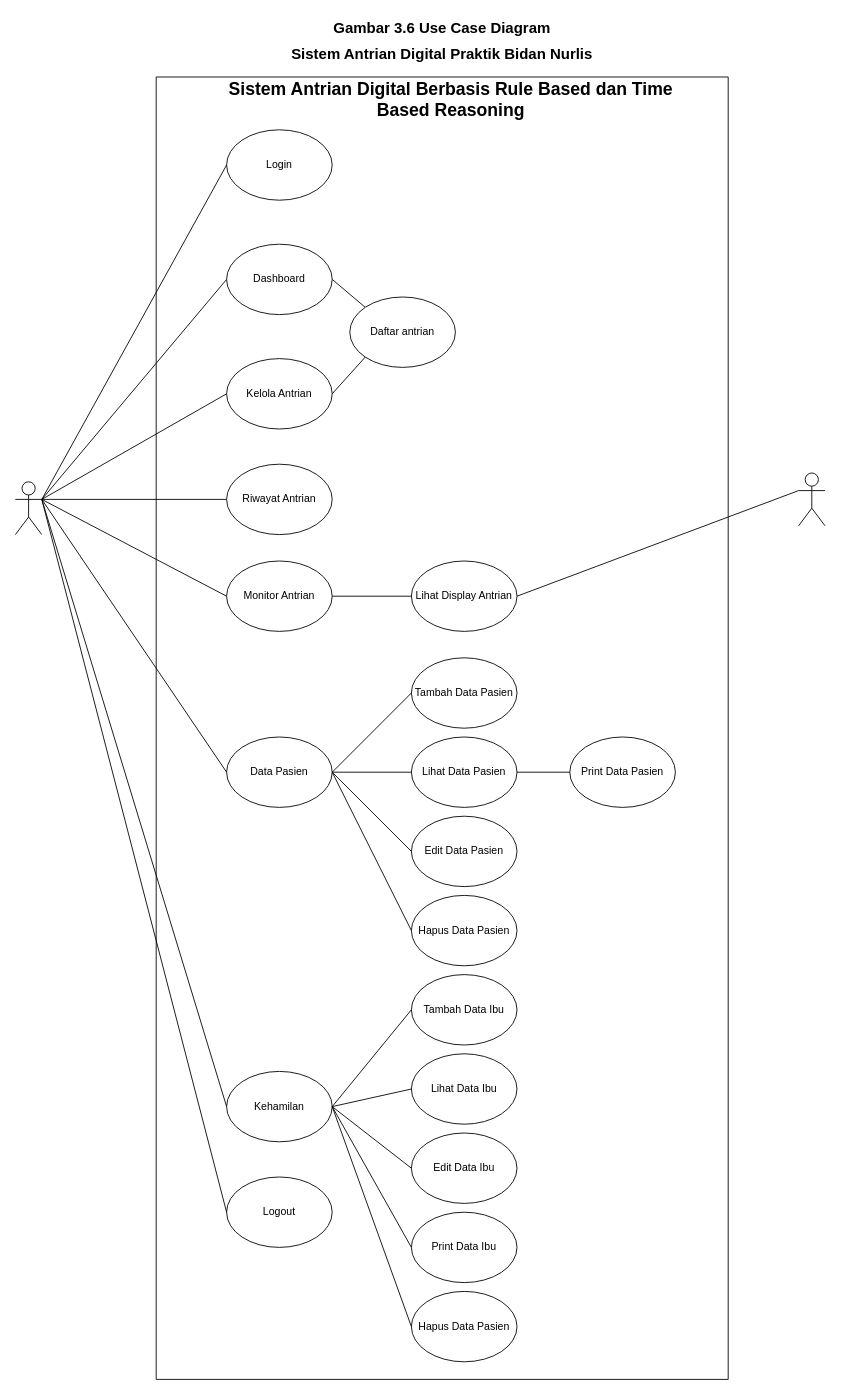
The diagram is 843 pixels wide and 1395 high, and some of its shapes have lost their labels. Here are the shapes that lost their labels. From the top down, the centre of each, then its label:
the point at 28,508: Bidan
the point at 811,499: Pasien
